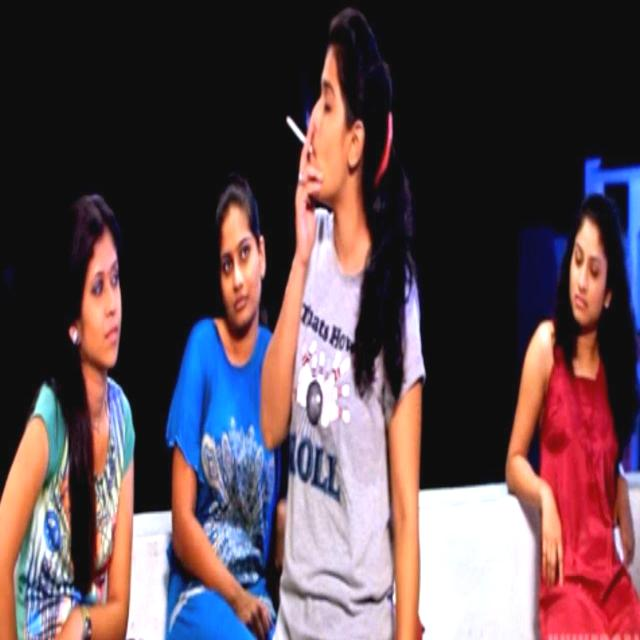Smooking: (278, 110, 318, 151)
